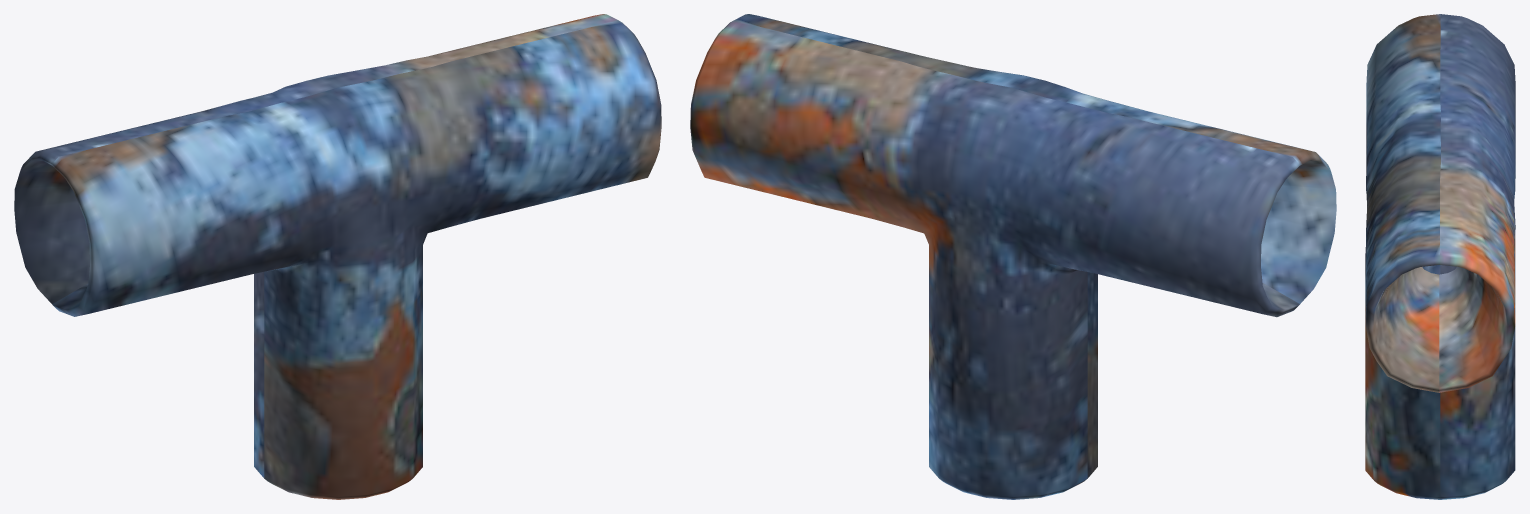
The model's file is Pipe09-model.fbx.
3 views of the same model, side by side, from view 1: azimuth 30°, elevation 25°; view 2: azimuth 150°, elevation 25°; view 3: azimuth 270°, elevation 25° (orthographic). The views are drawn at different scales.
Parts seen in each view (by area): view 1: T; view 2: T; view 3: T.
Boxes of the visible parts, x1,y1,x2,y2 form: T: (14, 14, 661, 499); T: (690, 14, 1336, 499); T: (1365, 14, 1515, 499).
Bounding box in the file's own units: 14.28 × 9.04 × 3.66.
Materials: 1 (1 with a texture image).
